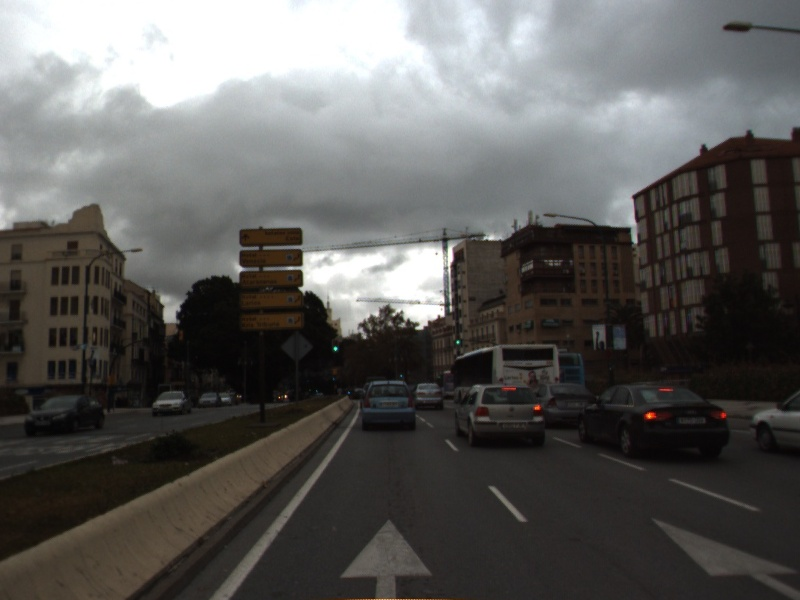STRAIGHT: (646, 514, 800, 599), (336, 514, 436, 600)
